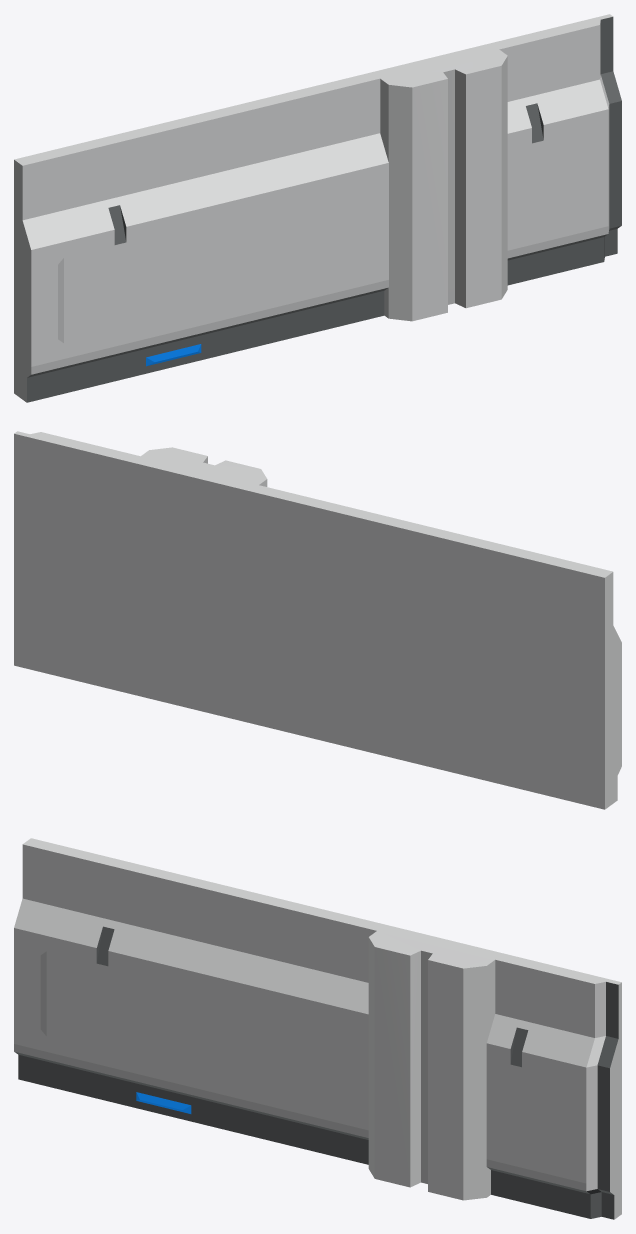
File: Wall_type_A_041.glb
The picture shows the model from 3 angles, top to bottom: view 1: azimuth 30°, elevation 25°; view 2: azimuth 150°, elevation 25°; view 3: azimuth 330°, elevation 25°; orthographic projection.
Visible parts, largest first — view 1: Wall_type_A_041; view 2: Wall_type_A_041; view 3: Wall_type_A_041.
Boxes of the visible parts, bbox=[...] form: Wall_type_A_041: bbox=[14, 14, 621, 402]; Wall_type_A_041: bbox=[14, 431, 621, 809]; Wall_type_A_041: bbox=[14, 838, 621, 1219].
Bounding box in the file's own units: 4 × 1.5 × 0.3.
2 materials, 2 textured.
